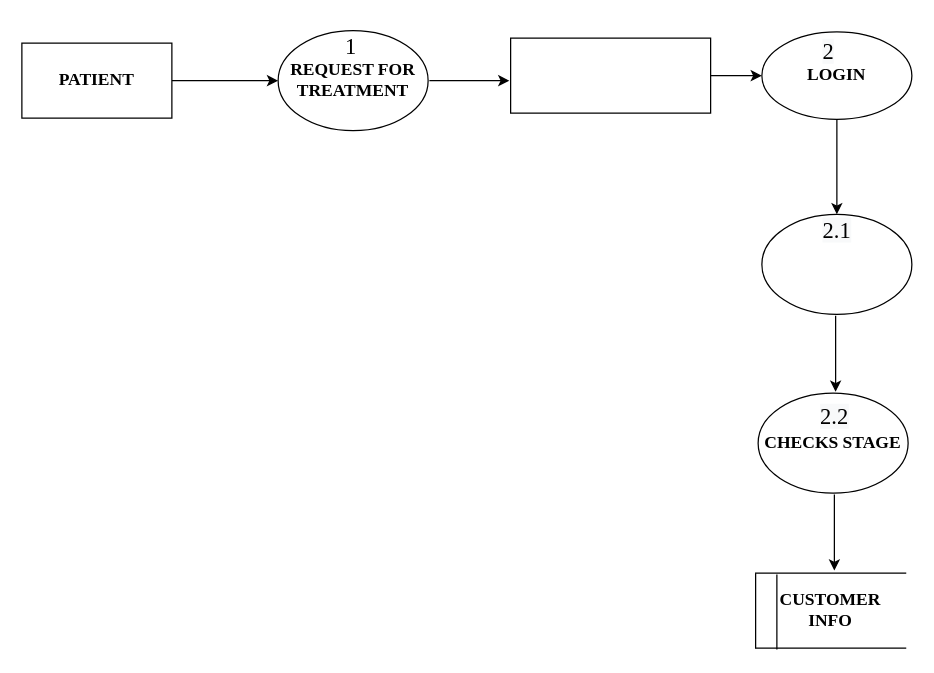
This 934x673 diagram has some shape labels left out. Here are the shapes that lost their labels. From the top down, the box of each, then its label:
(509, 37, 711, 113): CUSTOMER_AGENT
(761, 213, 912, 314): ADD/UPDATE /DELETE
